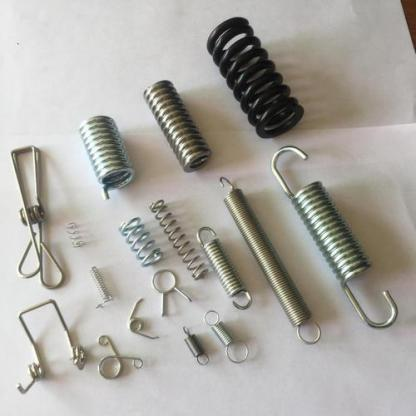FOD: (268, 144, 402, 332), (220, 172, 322, 346), (203, 13, 306, 141), (142, 78, 212, 174), (77, 111, 137, 205), (148, 196, 208, 282), (194, 222, 253, 307), (202, 307, 251, 366), (116, 211, 164, 266), (126, 294, 161, 342), (180, 324, 210, 367), (89, 263, 116, 309), (62, 219, 85, 250)
